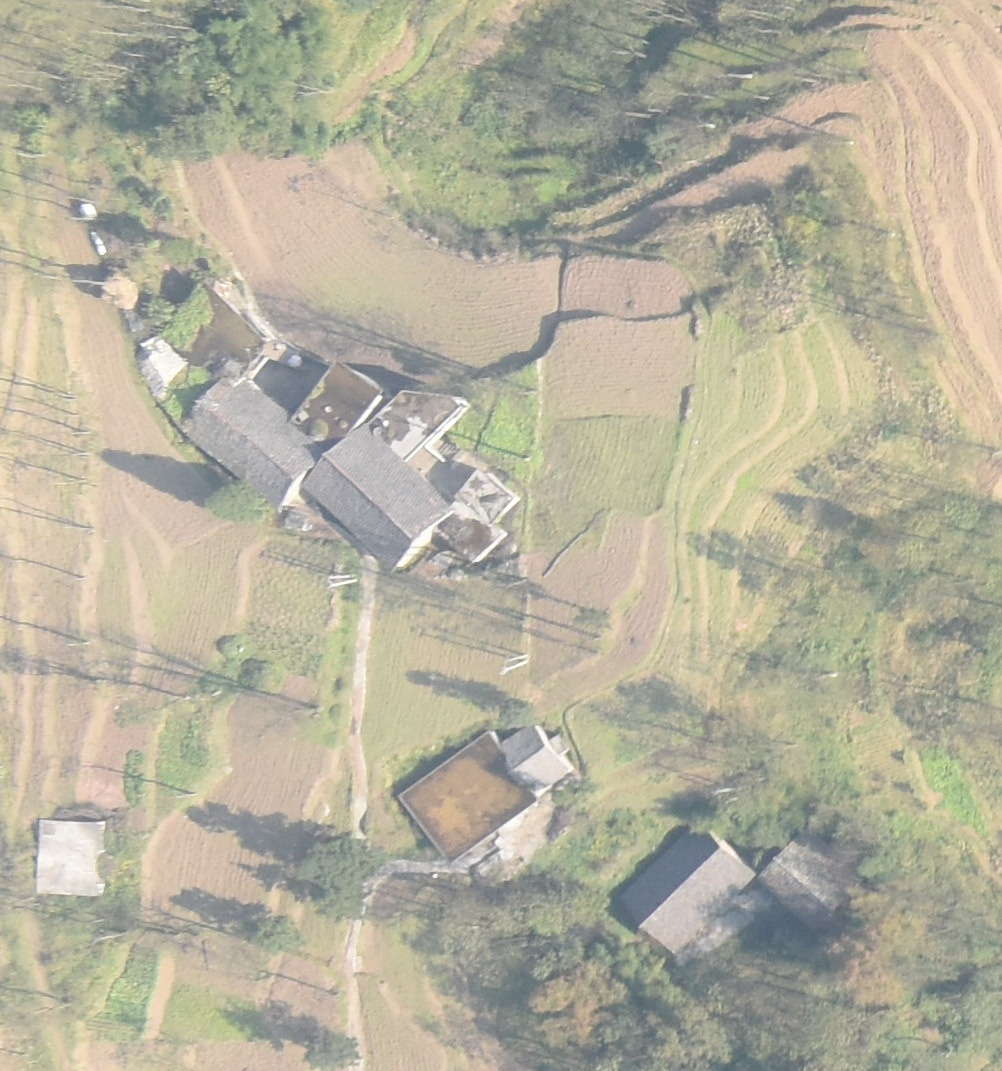building: (301, 423, 456, 577), (176, 374, 327, 510), (396, 729, 542, 863), (620, 824, 758, 955), (161, 281, 273, 384), (760, 842, 862, 931), (291, 363, 382, 451), (369, 390, 471, 462), (33, 818, 110, 896), (503, 724, 577, 797), (433, 504, 508, 560), (456, 467, 521, 526)
